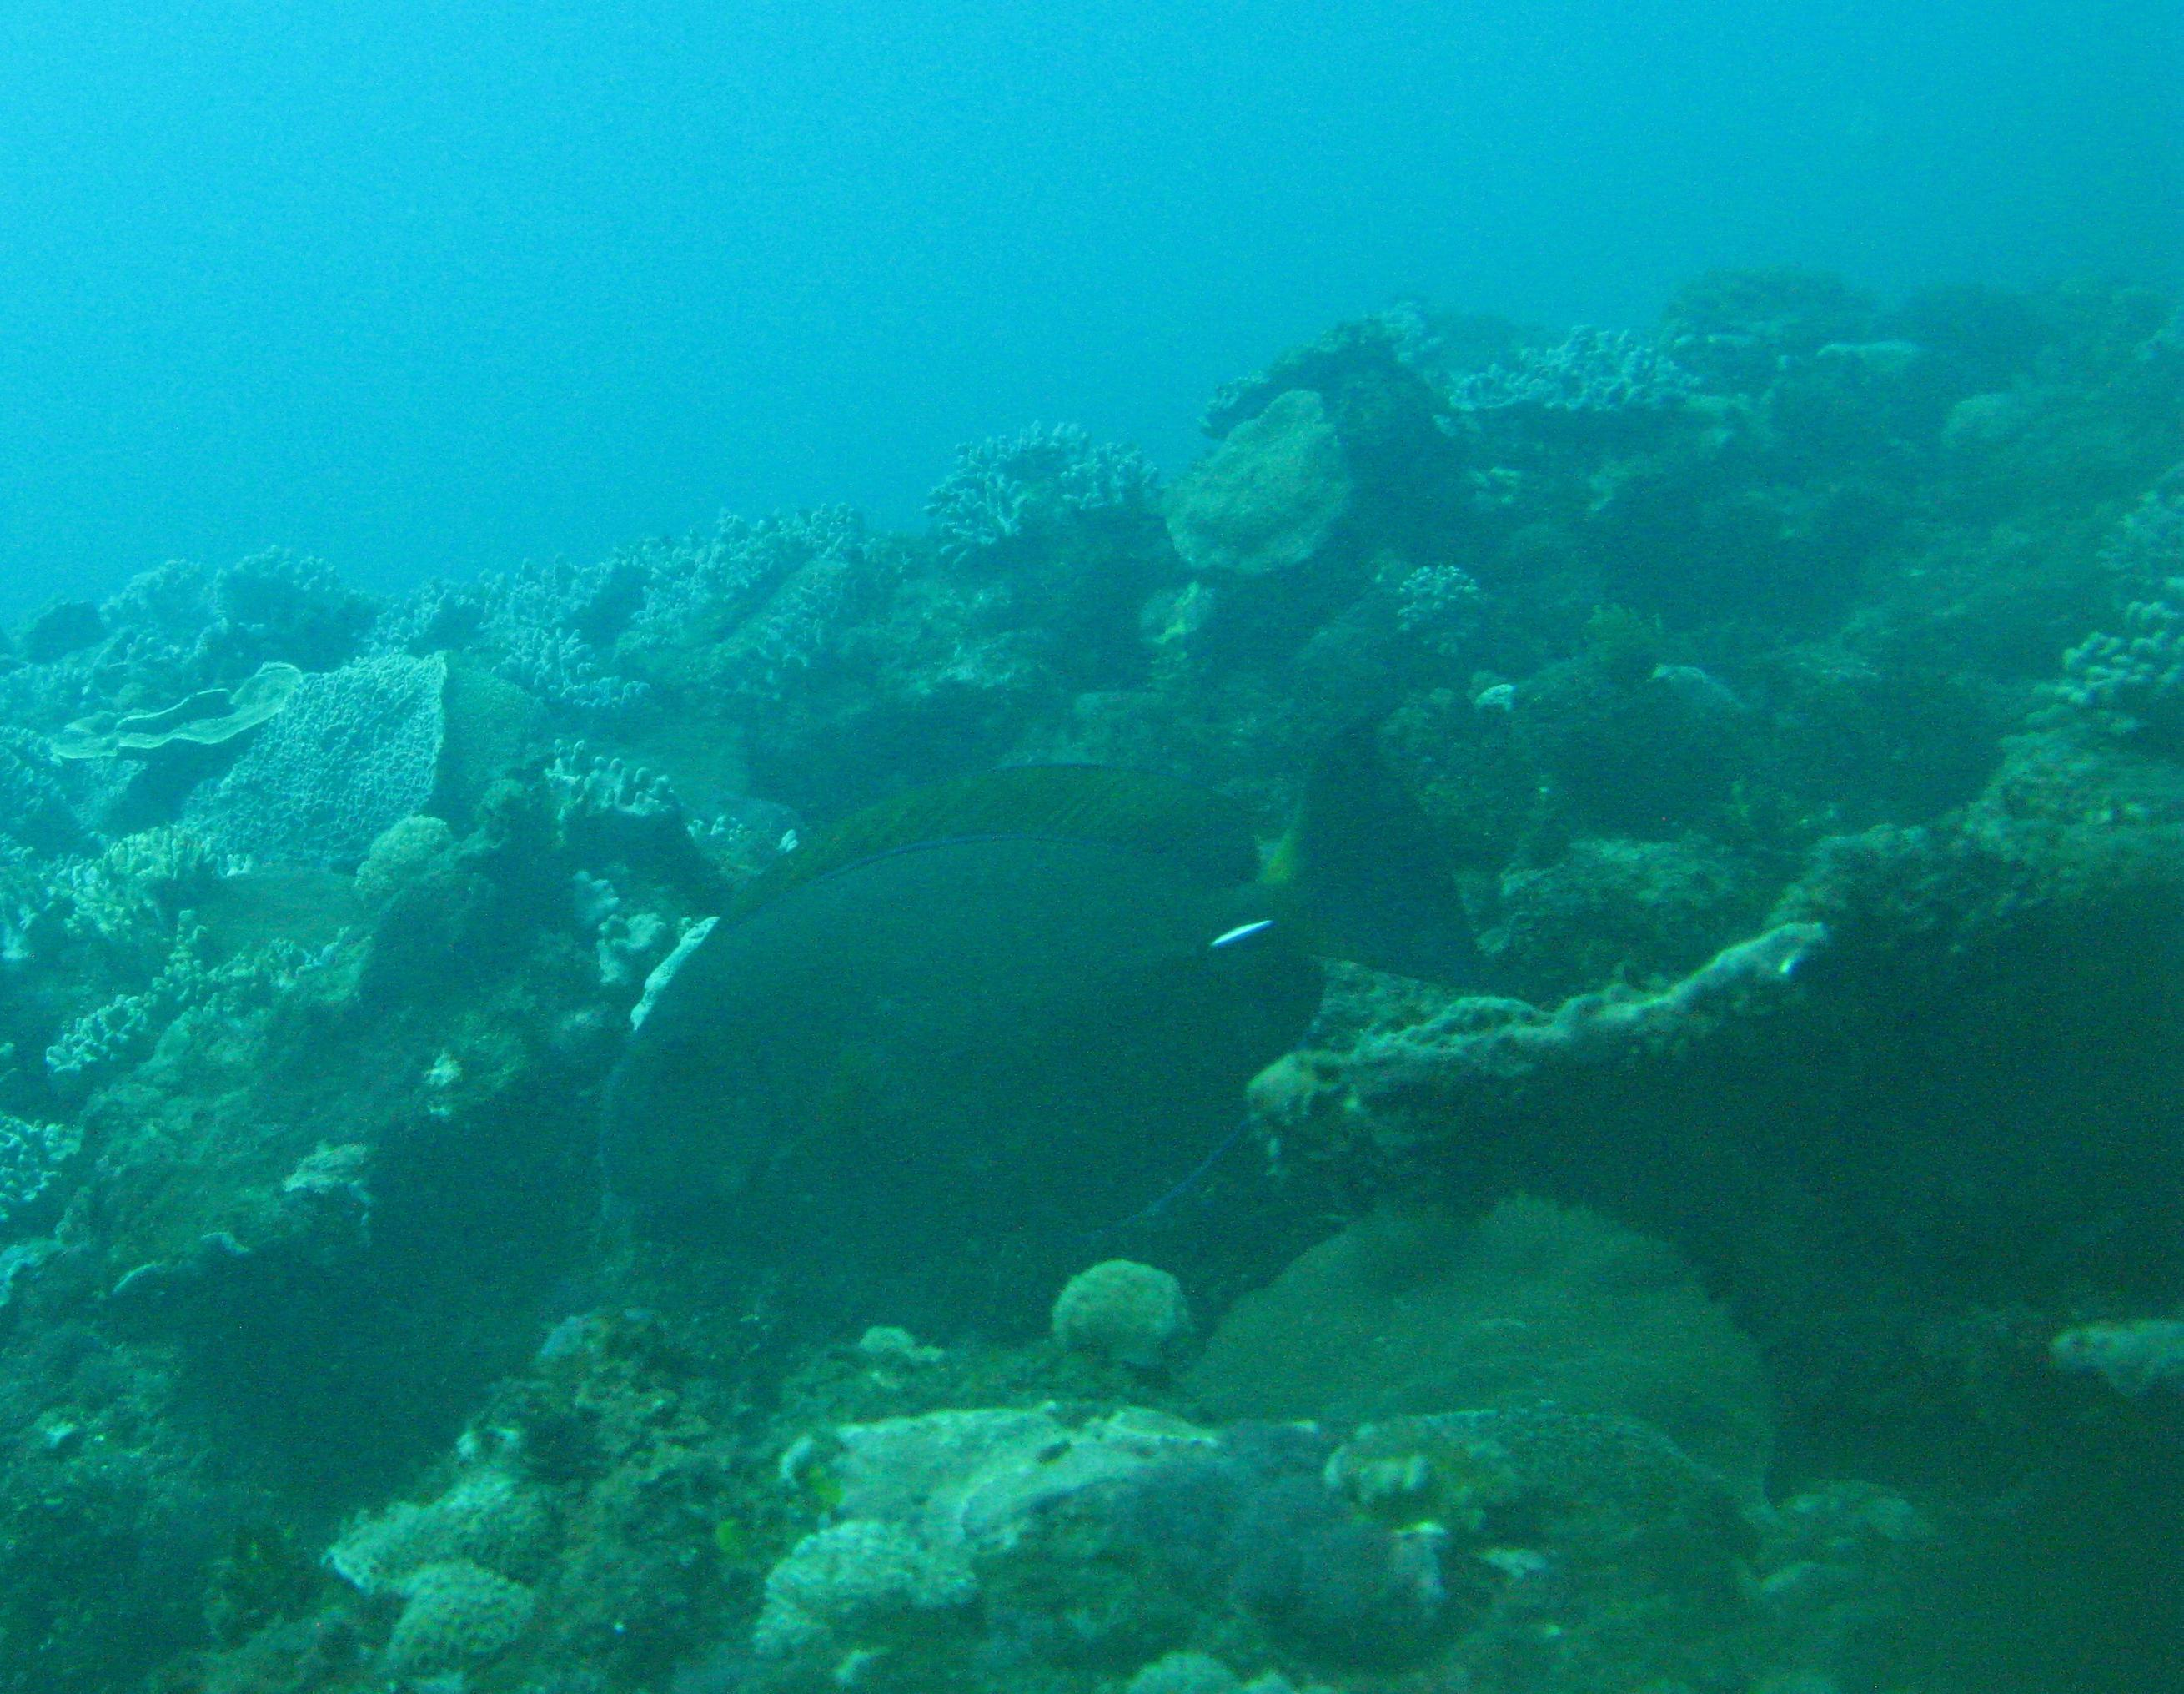Acanthurus dussumieri: (420, 686, 1565, 1366)
